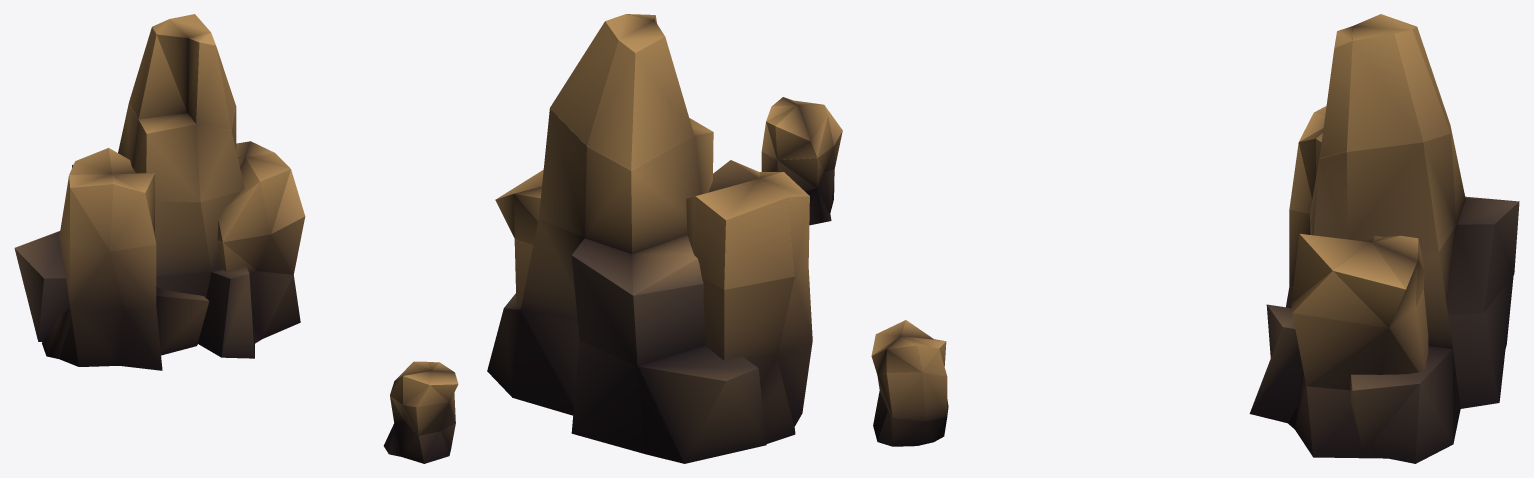
Rendered from level1RockBrkn_grp.fbx.
3 views of the same model, side by side, from view 1: azimuth 30°, elevation 25°; view 2: azimuth 150°, elevation 25°; view 3: azimuth 270°, elevation 25° (orthographic). The views are drawn at different scales.
Parts seen in each view (by area): view 1: rockLrgBrkn_03, rockMedBrkn_01, rockLrgBrkn_01, rockMedBrkn_03, rockSmlBrkn_03 (×2), rockSmlBrkn_04 (×2), rockLrgBrkn_04, rockMedBrkn_04, rockSmlBrkn_02 (×2), rockLrgBrkn_05, rockMedBrkn_05, rockMedBrkn_02; view 2: rockLrgBrkn_01, rockLrgBrkn_03, rockLrgBrkn_04, rockLrgBrkn_02, rockMedBrkn_05, rockMedBrkn_02, rockMedBrkn_01, rockSmlBrkn_04 (×2), rockMedBrkn_04, rockSmlBrkn_03 (×2), rockSmlBrkn_05, rockMedBrkn_03 (+2 smaller); view 3: rockLrgBrkn_01, rockLrgBrkn_03, rockSmlBrkn_03 (×2), rockLrgBrkn_04, rockSmlBrkn_04 (×2), rockLrgBrkn_02, rockSmlBrkn_02 (×2), rockLrgBrkn_05, rockMedBrkn_03, rockSmlBrkn_05, rockMedBrkn_02.
Boxes of the visible parts, <box> form: rockLrgBrkn_03: <box>118,103,244,275</box>; rockMedBrkn_01: <box>42,287,209,370</box>; rockLrgBrkn_01: <box>14,231,254,358</box>; rockMedBrkn_03: <box>69,174,156,309</box>; rockSmlBrkn_03 (×2): <box>217,169,455,448</box>; rockSmlBrkn_04 (×2): <box>218,141,458,404</box>; rockLrgBrkn_04: <box>129,14,210,119</box>; rockMedBrkn_04: <box>59,176,124,309</box>; rockSmlBrkn_02 (×2): <box>249,271,450,463</box>; rockLrgBrkn_05: <box>187,32,235,130</box>; rockMedBrkn_05: <box>69,148,136,174</box>; rockMedBrkn_02: <box>112,173,156,289</box>; rockLrgBrkn_01: <box>487,293,766,463</box>; rockLrgBrkn_03: <box>520,108,713,320</box>; rockLrgBrkn_04: <box>550,14,694,170</box>; rockLrgBrkn_02: <box>571,235,705,366</box>; rockMedBrkn_05: <box>686,178,794,289</box>; rockMedBrkn_02: <box>702,160,794,361</box>; rockMedBrkn_01: <box>749,341,812,443</box>; rockSmlBrkn_04 (×2): <box>495,97,833,244</box>; rockMedBrkn_04: <box>777,196,812,356</box>; rockSmlBrkn_03 (×2): <box>514,105,842,306</box>; rockSmlBrkn_05: <box>762,105,817,159</box>; rockMedBrkn_03: <box>759,172,809,197</box>; rockLrgBrkn_01: <box>1249,275,1513,463</box>; rockLrgBrkn_03: <box>1310,127,1465,348</box>; rockSmlBrkn_03 (×2): <box>877,271,1428,446</box>; rockLrgBrkn_04: <box>1347,14,1450,151</box>; rockSmlBrkn_04 (×2): <box>871,233,1424,374</box>; rockLrgBrkn_02: <box>1446,196,1519,315</box>; rockSmlBrkn_02 (×2): <box>873,369,1387,458</box>; rockLrgBrkn_05: <box>1319,26,1352,158</box>; rockMedBrkn_03: <box>1289,106,1326,287</box>; rockSmlBrkn_05: <box>901,336,946,376</box>; rockMedBrkn_02: <box>1298,128,1323,198</box>.
Bounding box in the file's own units: 201 × 243 × 375.
